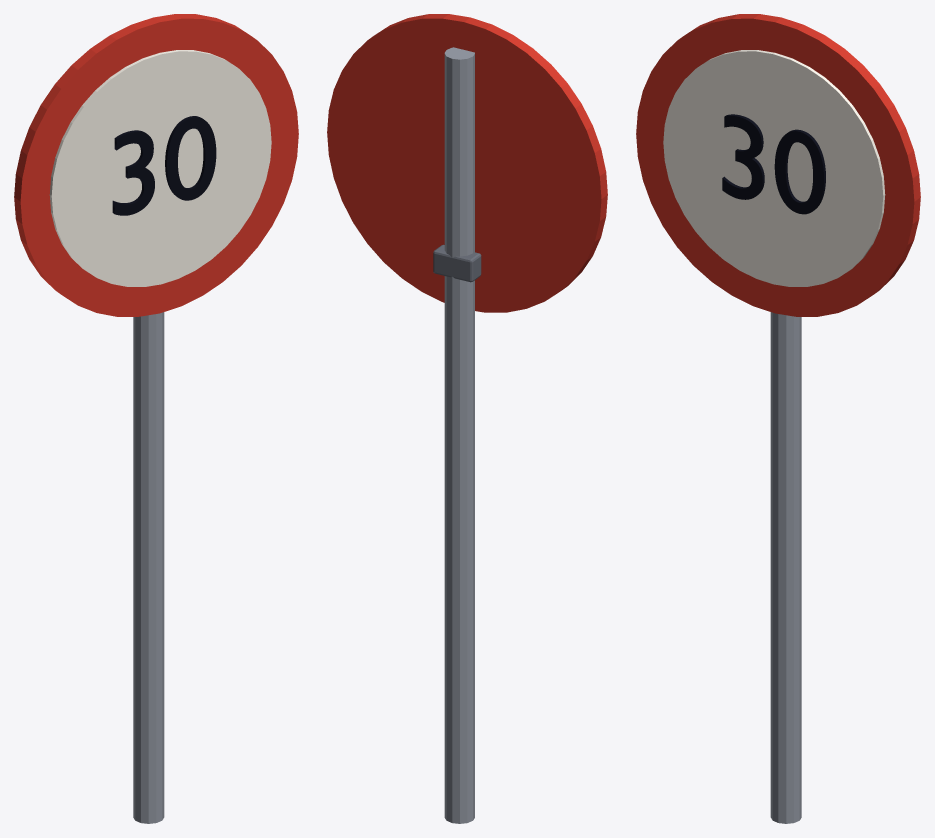
File: speed_sign_30.glb
The picture shows the model from 3 angles, left to right: view 1: azimuth 30°, elevation 25°; view 2: azimuth 150°, elevation 25°; view 3: azimuth 330°, elevation 25°; orthographic projection.
Parts seen in each view (by area): view 1: face, ring, pole, digits; view 2: ring, pole, clamp; view 3: face, ring, pole, digits.
Boxes of the visible parts, x1,y1,x2,y2 form: face: [49, 50, 271, 286]; ring: [14, 14, 298, 316]; pole: [133, 312, 164, 823]; digits: [112, 116, 216, 215]; ring: [327, 14, 607, 312]; pole: [444, 47, 474, 823]; clamp: [433, 244, 481, 282]; face: [663, 50, 885, 286]; ring: [636, 14, 920, 316]; pole: [770, 312, 801, 823]; digits: [722, 114, 825, 214].
Size of the model in its own units: 1.24 by 3.42 by 0.175.
